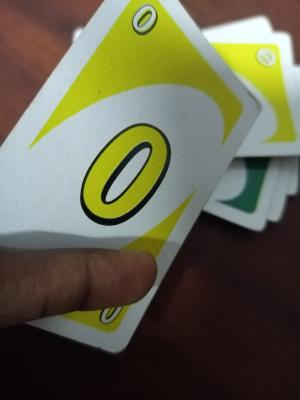num_0: (97, 304, 128, 337)
yellow: (131, 3, 173, 89)
